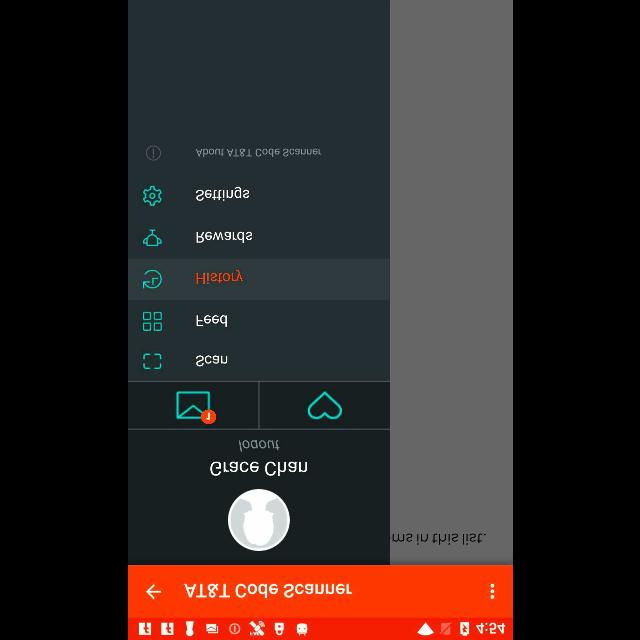icon: (227, 489, 289, 551), (174, 390, 216, 424), (306, 390, 342, 420), (142, 186, 162, 207), (142, 269, 162, 289), (142, 312, 162, 331), (145, 582, 161, 600), (145, 145, 161, 161), (490, 583, 494, 599)
image: (142, 352, 162, 370), (142, 230, 162, 247)
panel: (128, 0, 388, 564)
text: (182, 583, 352, 599), (210, 460, 306, 476), (195, 148, 321, 158), (195, 186, 249, 202), (195, 231, 251, 243), (195, 270, 242, 284), (238, 440, 278, 452), (195, 355, 227, 367), (196, 315, 227, 327)
toolbar: (128, 565, 512, 617)
uppertaskbar: (128, 617, 512, 639)
